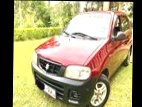car: (30, 9, 133, 107)
